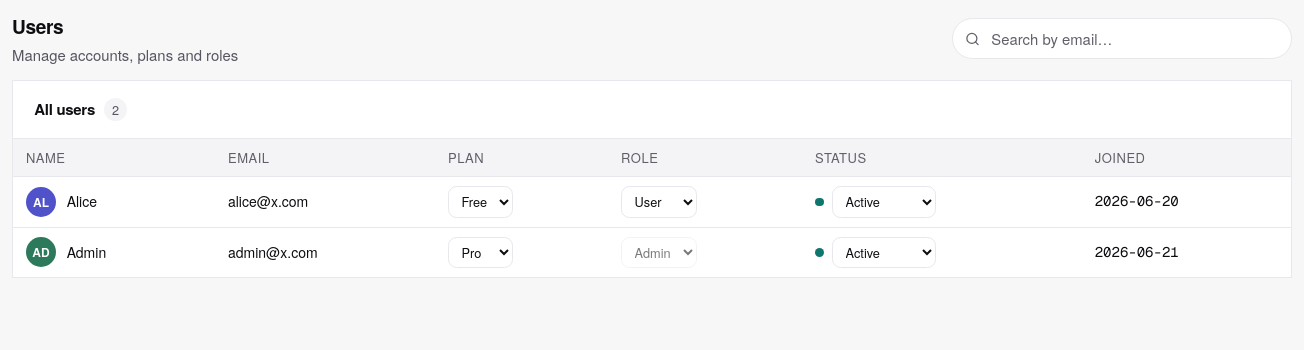
it: UsersView › shows an alert when a mutation fails
The width and height of the screenshot is (1304, 350).
Select "pro" in the dropdown named "Plan for alice@x.com": (480, 202) [448, 186, 513, 218]
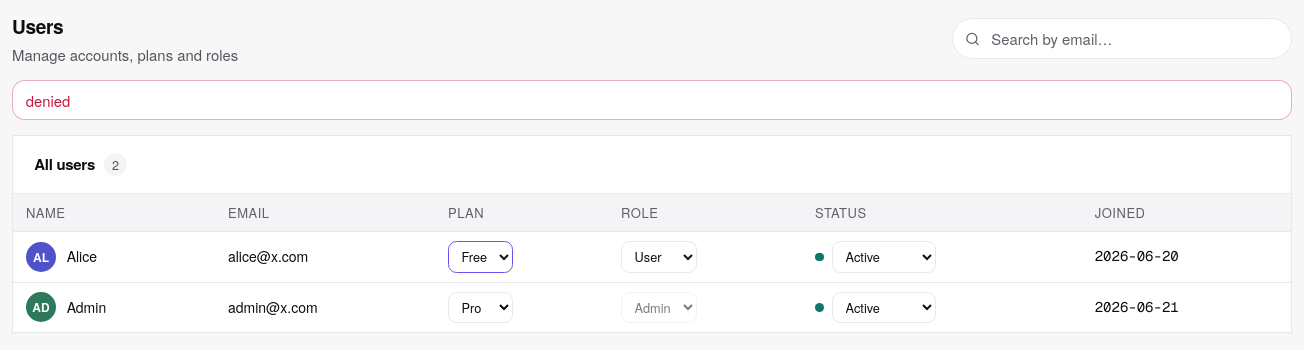
Expected: the message reads "denied", [26, 90, 70, 110]
